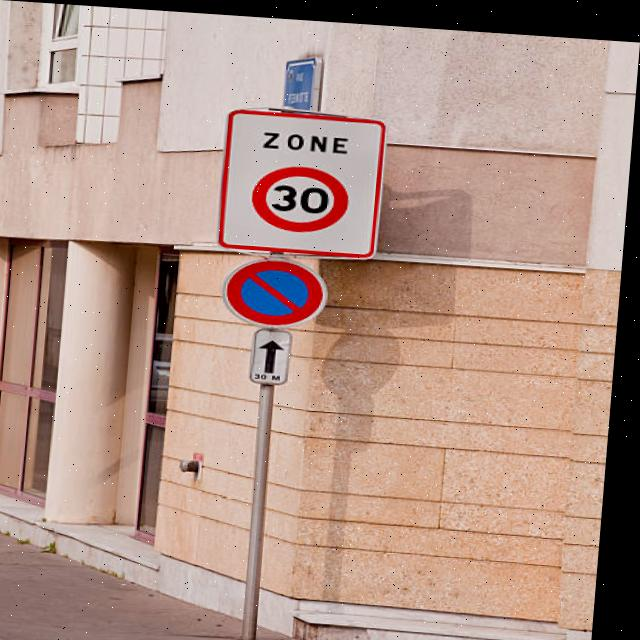Speed limit 30: (243, 156, 376, 237)
